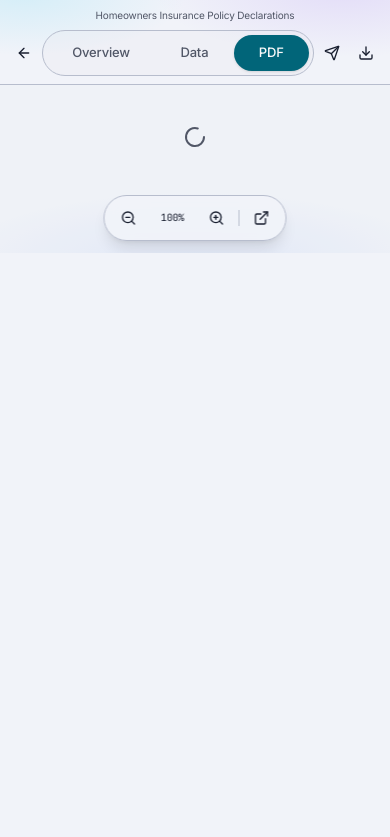
Scenario: the document view opens on the file › lands on the PDF tab with the whole view given to the file
Expected: the element with test id "doc-file-view" is shown, [0, 84, 389, 252]
Expected: the tab with test id "tab-doc-file" reads "PDF", [234, 35, 309, 70]
Click the button with test id "btn-doc-zoom-in" at (216, 218), box [198, 200, 234, 236]
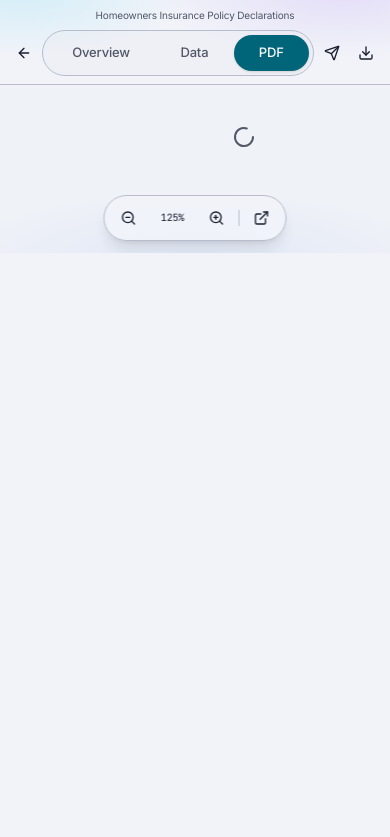
Now the text with test id "text-zoom-level" reads "125%", box [161, 210, 184, 224]
// Leaving the file tab brings the header back.
Click the tab with test id "tab-doc-overview" at (101, 53), box [47, 35, 155, 70]
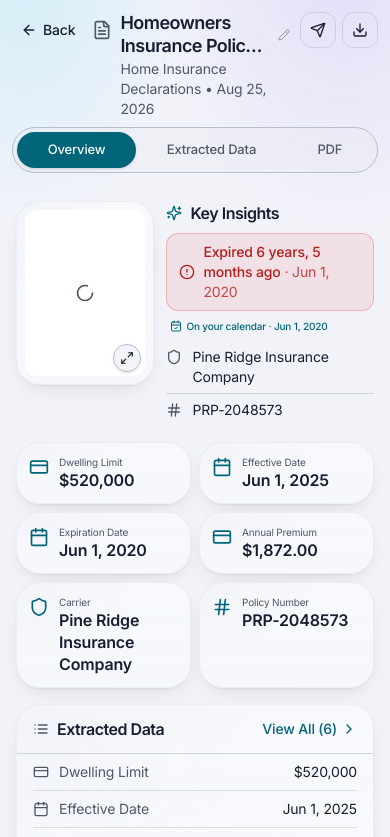
Now the element with test id "doc-file-view" is gone
